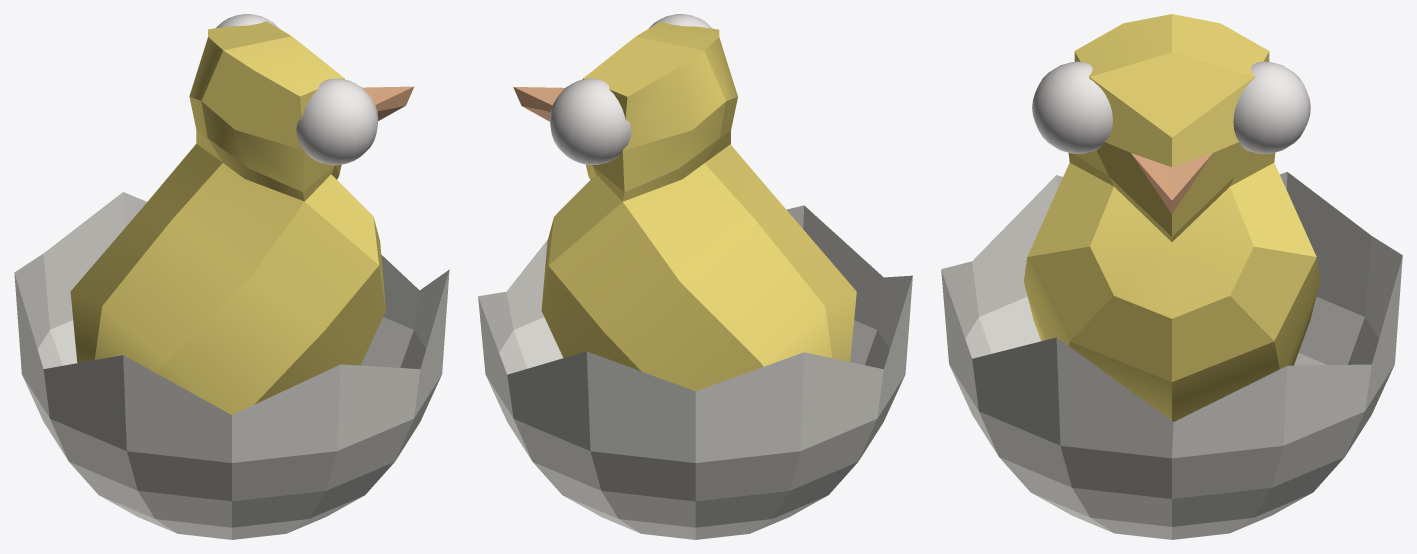
Rendered from ChickCOMBINE.fbx.
3 views of the same model, side by side, from view 1: azimuth 30°, elevation 25°; view 2: azimuth 150°, elevation 25°; view 3: azimuth 270°, elevation 25° (orthographic). The views are drawn at different scales.
Visible parts, largest first — view 1: pSphere1; view 2: pSphere1; view 3: pSphere1.
Boxes of the visible parts, x1,y1,x2,y2 form: pSphere1: (14,14,449,539); pSphere1: (478,14,912,539); pSphere1: (941,14,1402,539).
Size of the model in its own units: 18.25 by 21.84 by 18.25.
